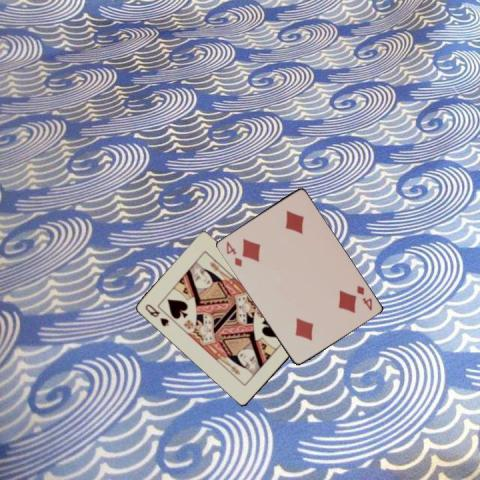4d: (223, 238, 243, 268), (354, 283, 374, 312)
Qs: (142, 301, 170, 328)
